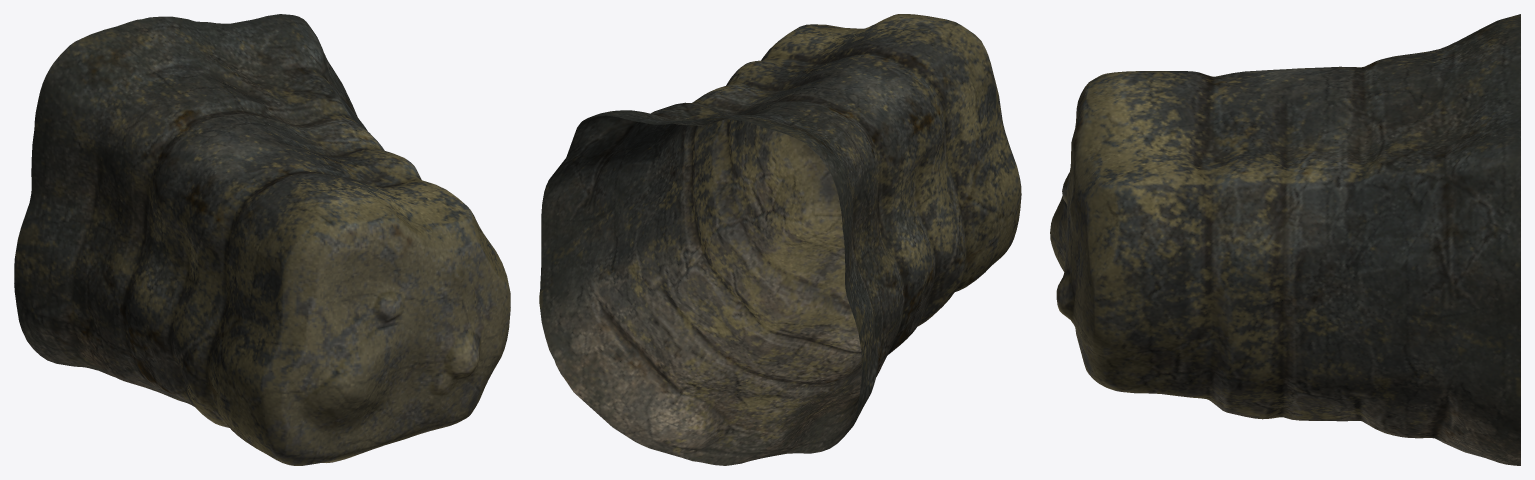
Rendered from rock_cliff_05.obj.
3 views of the same model, side by side, from view 1: azimuth 30°, elevation 25°; view 2: azimuth 150°, elevation 25°; view 3: azimuth 270°, elevation 25° (orthographic). The views are drawn at different scales.
Parts seen in each view (by area): view 1: rock_cliff_05; view 2: rock_cliff_05; view 3: rock_cliff_05.
Boxes of the visible parts, x1=… form: rock_cliff_05: x1=14, y1=14, x2=510, y2=465; rock_cliff_05: x1=539, y1=14, x2=1021, y2=465; rock_cliff_05: x1=1050, y1=14, x2=1520, y2=465.
Bounding box in the file's own units: 10.09 × 10.55 × 12.
1 material, 1 textured.
